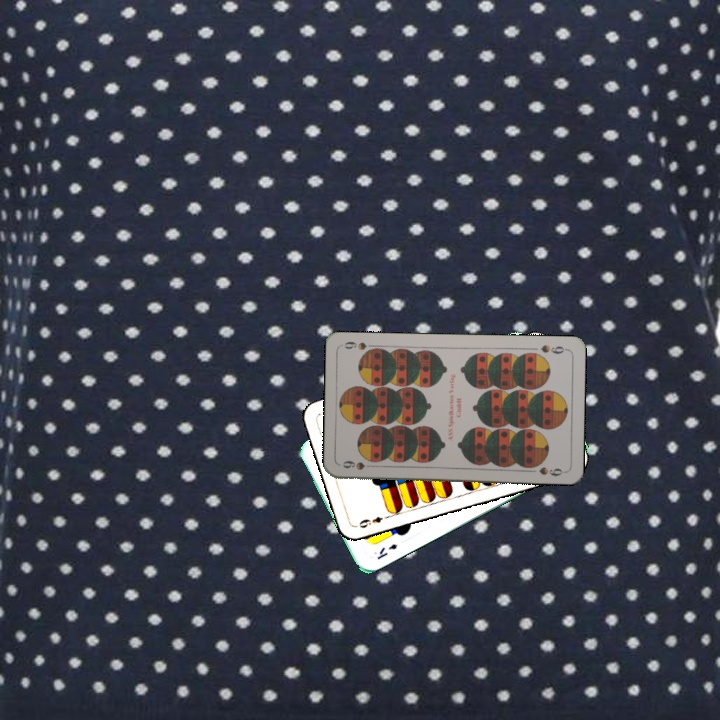E9: (355, 512, 392, 531)
EK: (373, 539, 399, 562)
S9: (338, 457, 379, 472), (537, 341, 569, 356)
